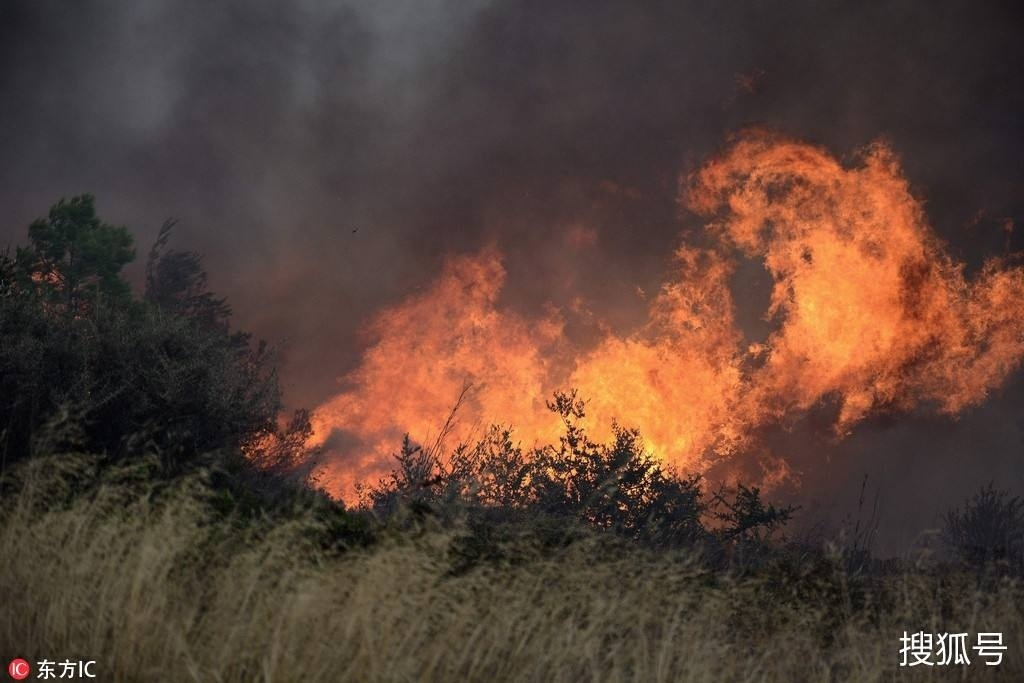fire: (273, 116, 1024, 516)
